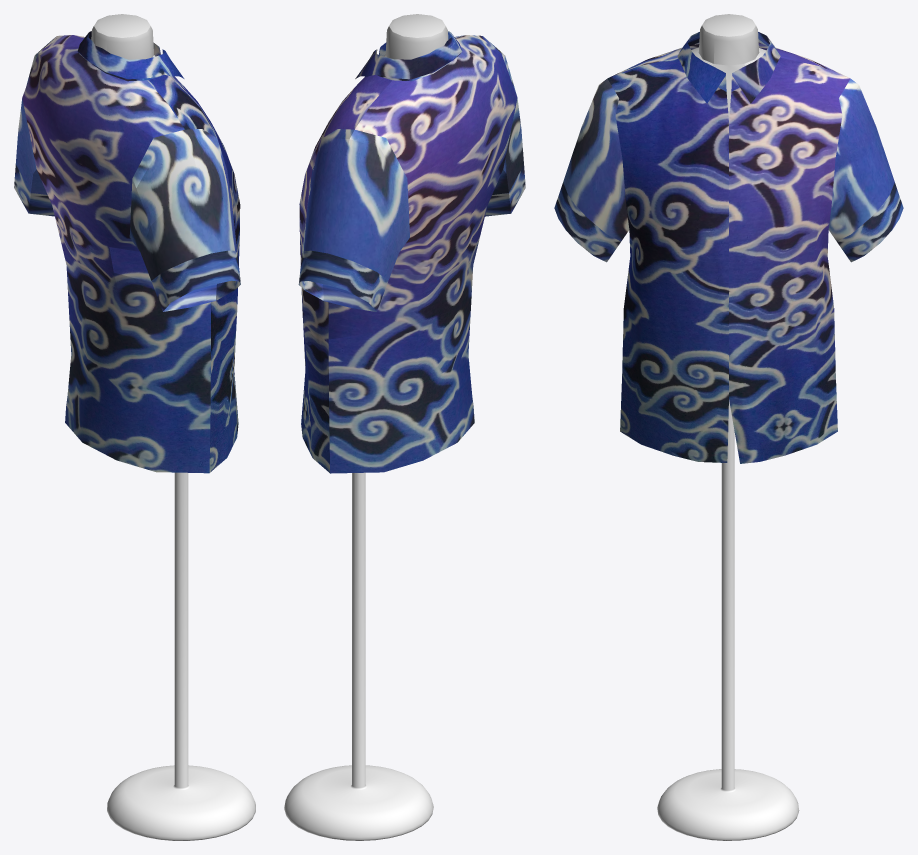
Rendered from Batik1.glb.
3 renders of one model, left to right at view 1: azimuth 30°, elevation 25°; view 2: azimuth 150°, elevation 25°; view 3: azimuth 270°, elevation 25°, orthographic. The views are drawn at different scales.
Visible parts, largest first — view 1: 1.002, 5.030; view 2: 1.002, 5.030; view 3: 1.002, 5.030.
Part boxes in pixels (x1,y1,x2,y2): 1.002: (14,14,240,473); 5.030: (107,472,255,840); 1.002: (298,14,525,473); 5.030: (284,472,433,840); 1.002: (554,14,903,463); 5.030: (657,400,799,840).
Size of the model in its own units: 32.02 by 132 by 54.84.
3 materials, 1 textured.
